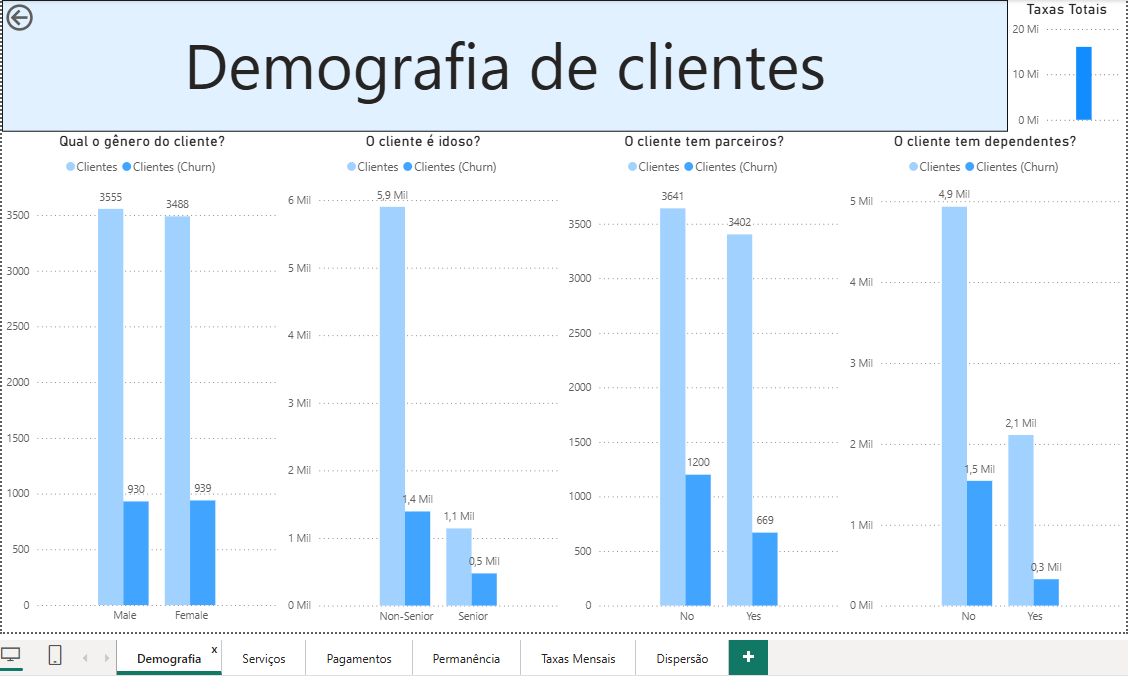

The page's visual inventory and layout, read from the dashboard file:
{"tool":"powerbi","page":{"name":"Demografia","canvas":[1280,720],"ordinal":0},"visuals":[{"type":"clusteredColumnChart","title":"Qual o gênero do cliente?","fields":{"Category":["WA_Fn-UseC_-Telco-Customer-Churn.gender"],"Y":["CountNonNull(WA_Fn-UseC_-Telco-Customer-Churn.gender)","Sum(WA_Fn-UseC_-Telco-Customer-Churn.Churn)"]},"box":[0,150.6,319.7,569.3],"z":0},{"type":"clusteredColumnChart","title":"O cliente é idoso?","fields":{"Category":["WA_Fn-UseC_-Telco-Customer-Churn.SeniorCitizen"],"Y":["CountNonNull(WA_Fn-UseC_-Telco-Customer-Churn.SeniorCitizen)","Sum(WA_Fn-UseC_-Telco-Customer-Churn.Churn)"]},"box":[320,150.4,320,569.9],"z":1000},{"type":"clusteredColumnChart","title":"O cliente tem parceiros?","fields":{"Y":["CountNonNull(WA_Fn-UseC_-Telco-Customer-Churn.Partner)","Sum(WA_Fn-UseC_-Telco-Customer-Churn.Churn)"],"Category":["WA_Fn-UseC_-Telco-Customer-Churn.Partner"]},"box":[640,150.4,320,569.9],"z":2000},{"type":"clusteredColumnChart","title":"O cliente tem dependentes?","fields":{"Category":["WA_Fn-UseC_-Telco-Customer-Churn.Dependents"],"Y":["CountNonNull(WA_Fn-UseC_-Telco-Customer-Churn.Dependents)","Sum(WA_Fn-UseC_-Telco-Customer-Churn.Churn)"]},"box":[960,150.4,320,569.9],"z":3000},{"type":"textbox","box":[0,0,1146.1,150.4],"z":4000},{"type":"actionButton","box":[0,0,100,40],"z":5000},{"type":"clusteredColumnChart","title":"Taxas Totais","fields":{"Y":["Sum(WA_Fn-UseC_-Telco-Customer-Churn.TotalCharges)"]},"box":[1146.1,0,133.9,150.4],"z":6000}]}

Visuals, with their boxes on the page's 1280x720 design canvas (x1, y1, x2, y2). These are canvas units, not pixel positions in the 1128x676 screenshot, which may show the page scaled, cropped or inside an application window:
"Qual o gênero do cliente?" clusteredColumnChart: locate(0, 151, 320, 720)
"O cliente é idoso?" clusteredColumnChart: locate(320, 150, 640, 720)
"O cliente tem parceiros?" clusteredColumnChart: locate(640, 150, 960, 720)
"O cliente tem dependentes?" clusteredColumnChart: locate(960, 150, 1280, 720)
textbox: locate(0, 0, 1146, 150)
actionButton: locate(0, 0, 100, 40)
"Taxas Totais" clusteredColumnChart: locate(1146, 0, 1280, 150)
